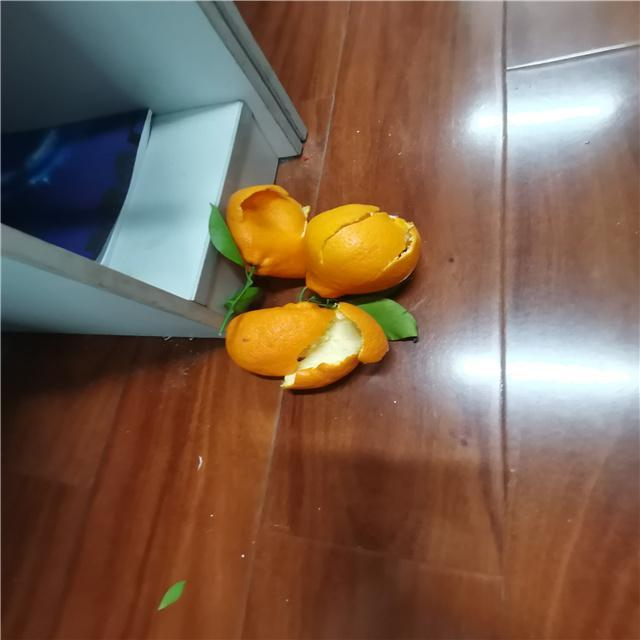orange-peel: (220, 182, 422, 391), (303, 201, 421, 298), (225, 182, 308, 278)
